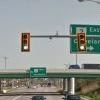Traffic light: (13, 29, 87, 58)
